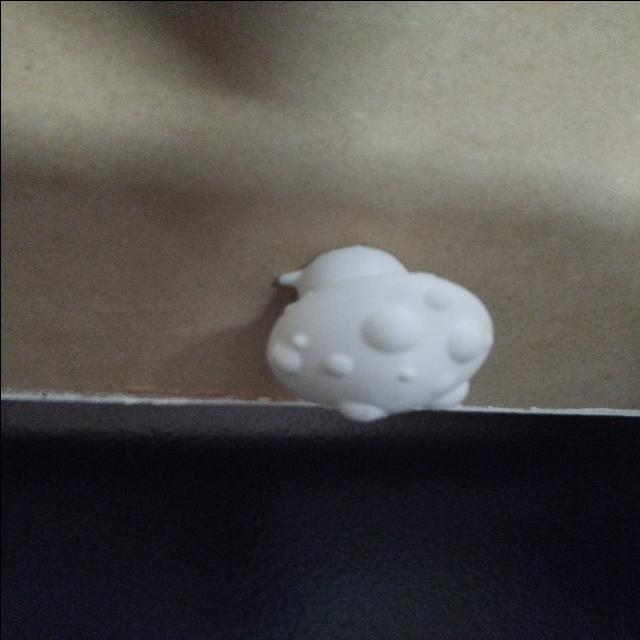Hongo: (238, 240, 520, 430)
